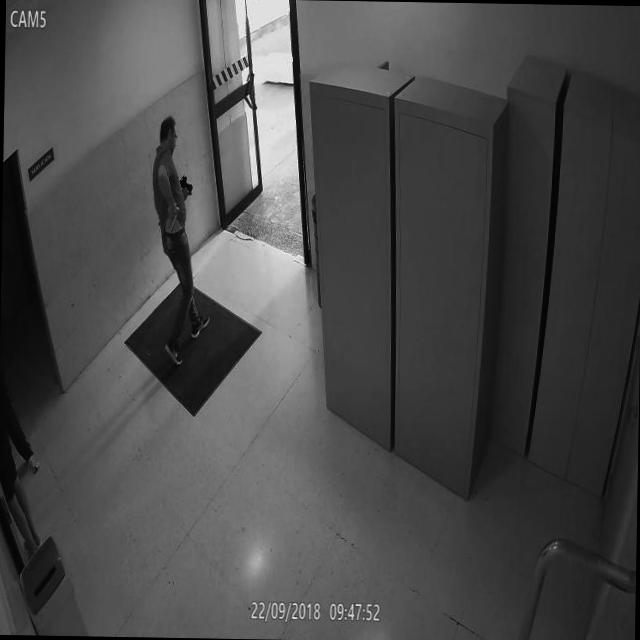person: (147, 106, 216, 364)
